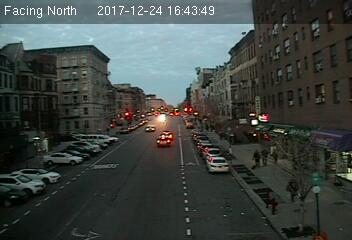car: (207, 156, 230, 172), (156, 135, 171, 147)
